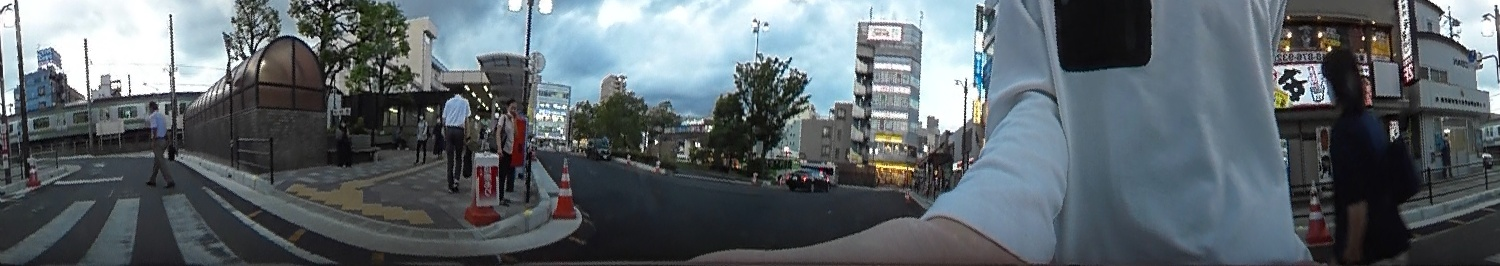difficult_person: (331, 118, 357, 169), (413, 110, 431, 164), (1434, 133, 1455, 177), (433, 114, 448, 158), (392, 117, 411, 151)
person: (1313, 42, 1413, 266), (140, 96, 183, 190), (438, 82, 474, 190), (493, 99, 527, 205)
